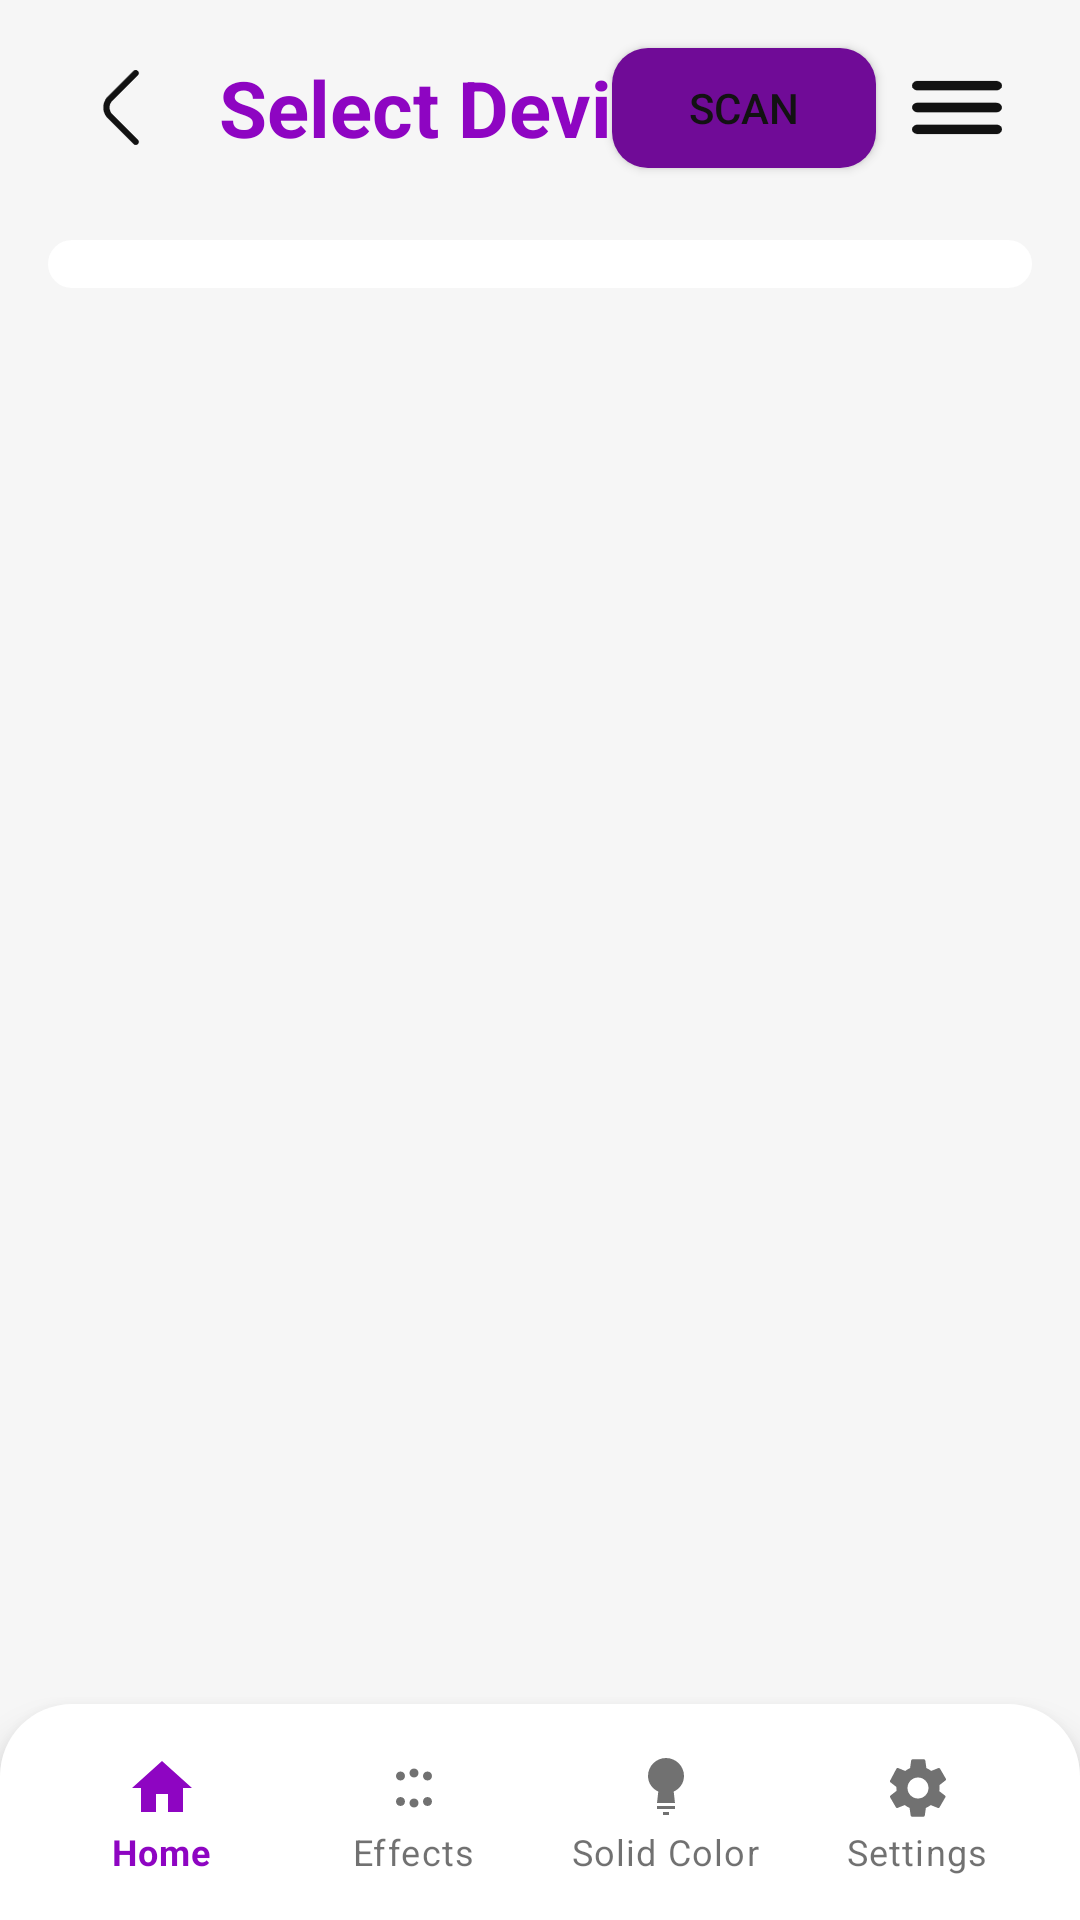

Where icons sit on this 1080x1920 app screen, as (x1, y1, x2, y2):
Back Button: (103, 70, 139, 145)
Options: (912, 81, 1002, 134)
